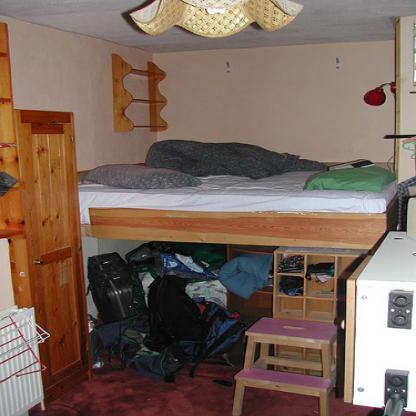backpack: (147, 276, 208, 340), (148, 243, 217, 281), (125, 241, 177, 273), (206, 318, 248, 355), (228, 322, 249, 328)
suitcase: (85, 252, 145, 324)
